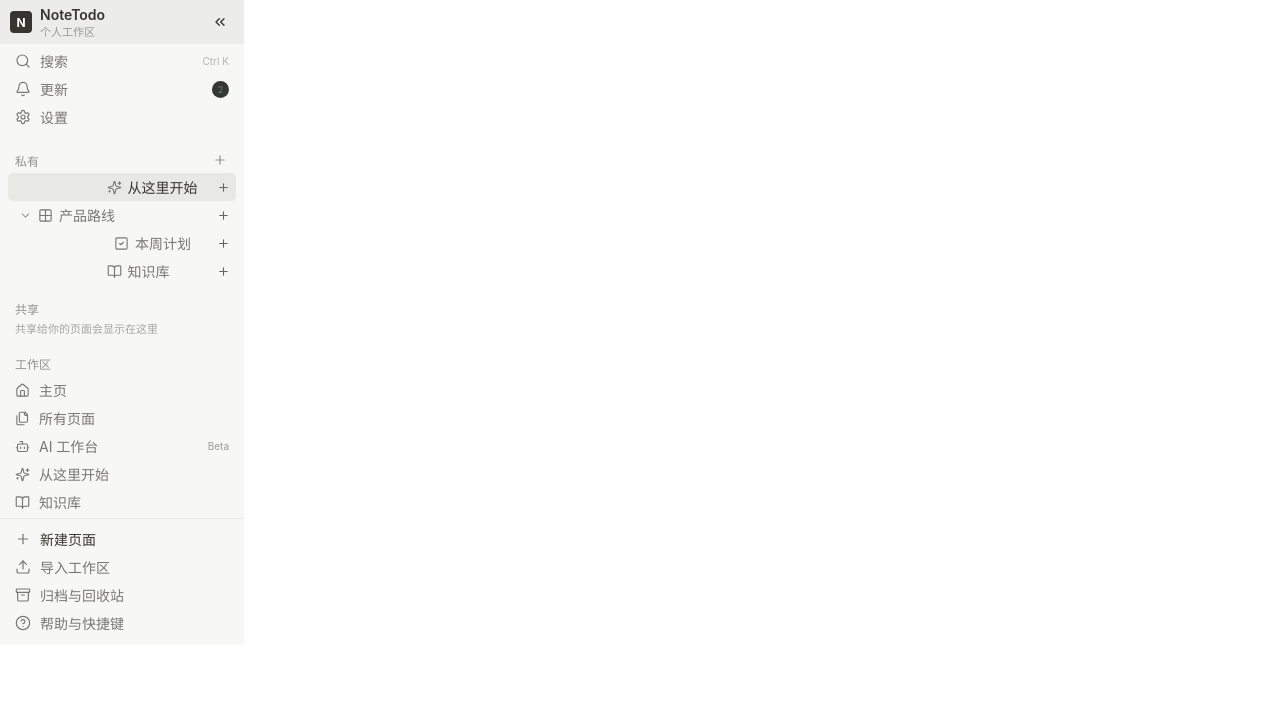
Scenario: Sidebar › opens templates as an anchored dialog and closes it with Escape
Click the button named "从模板新建页面" at (220, 160), box [211,151,229,169]
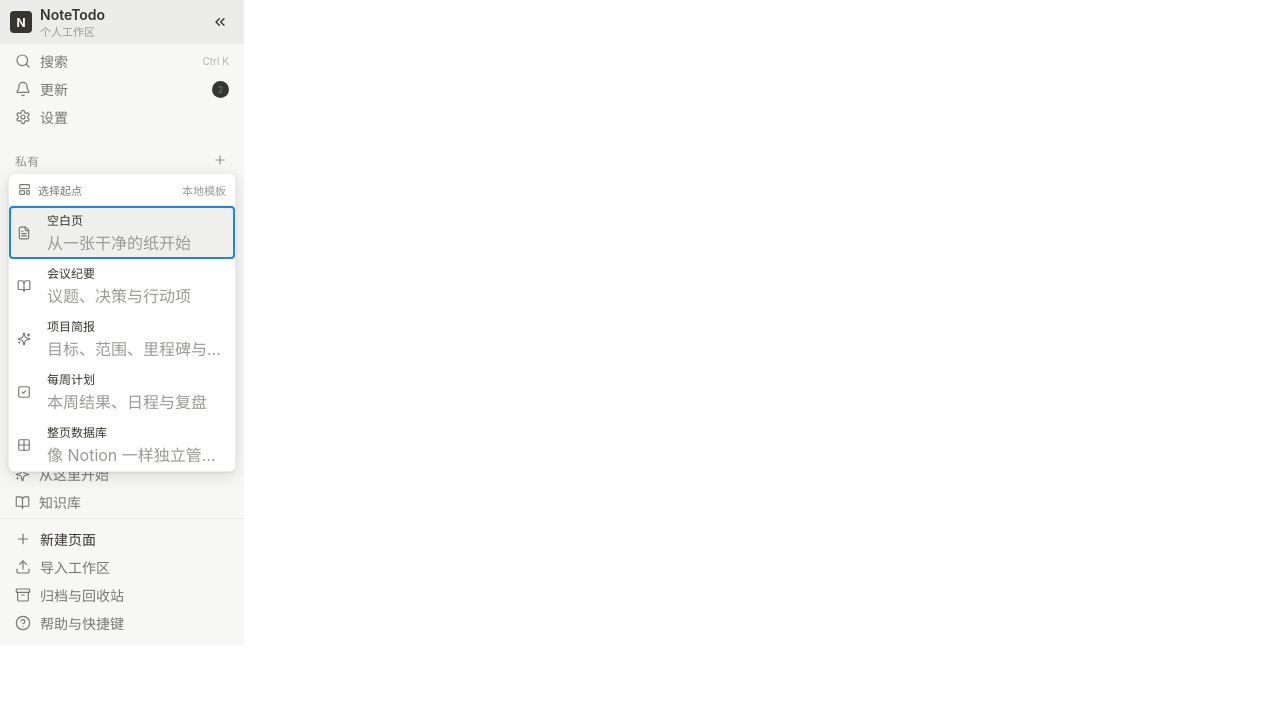
Now the text "本地模板" is shown, box [182,182,226,198]
Press Escape
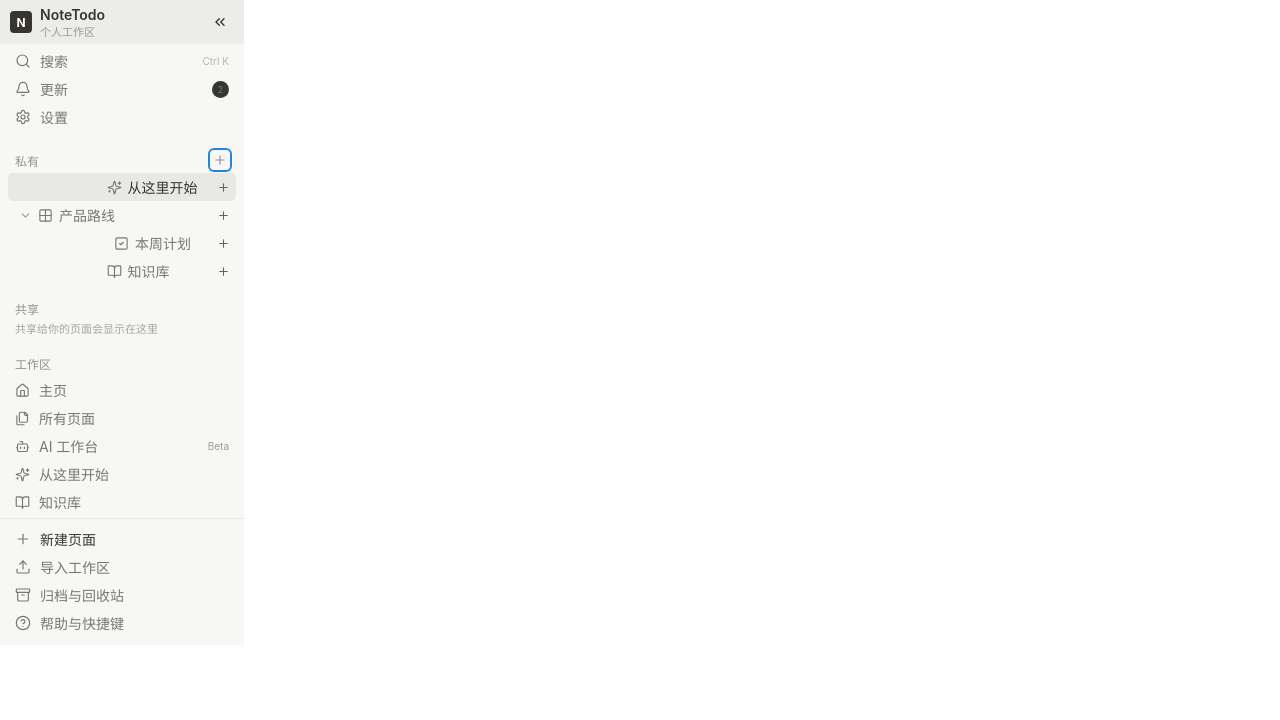
Now the dialog "选择页面模板" is gone
